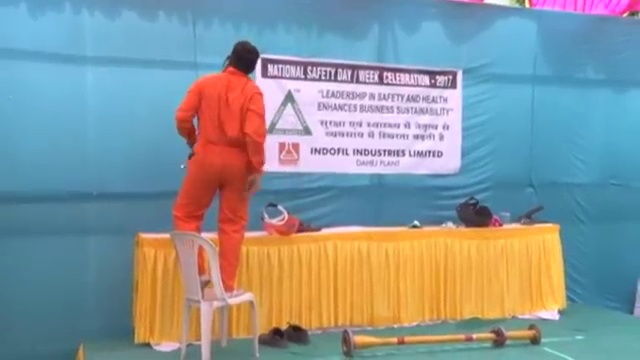helmet_off: (226, 37, 262, 76)
person: (165, 38, 270, 306)
